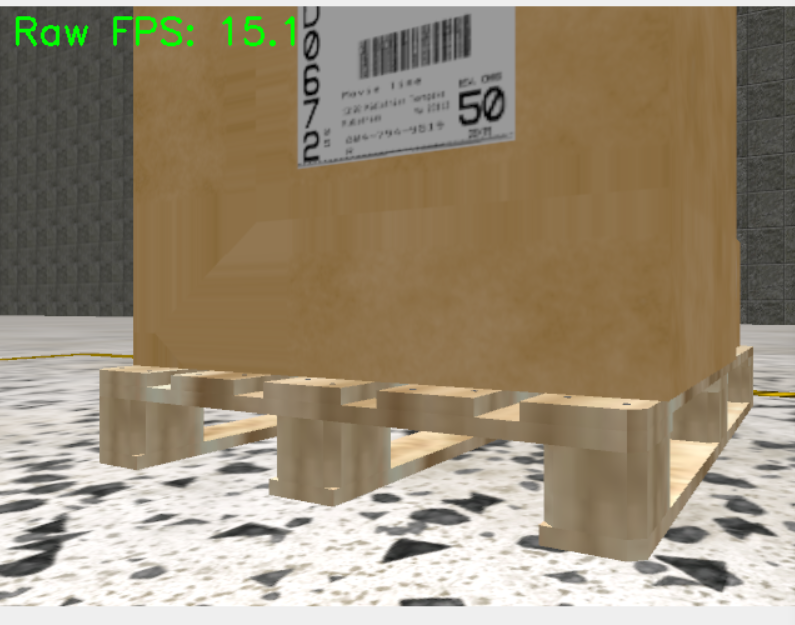barcode: (296, 5, 519, 171)
